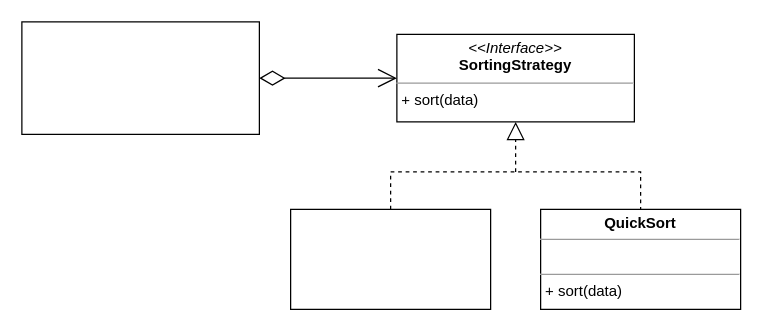
The diagram is 763 pixels wide and 331 high, and some of its shapes have lost their labels. The shapes that lost their labels are listed below. From the top down, each one's centre as x and y in pixels, then its label:
the point at 140,77: Sorter - strategy + setStrategy(SortingStrategy) + sortData(data)
the point at 390,258: BubbleSort + sort(data)
